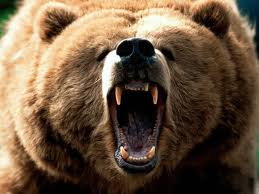bear: (1, 1, 252, 194)
